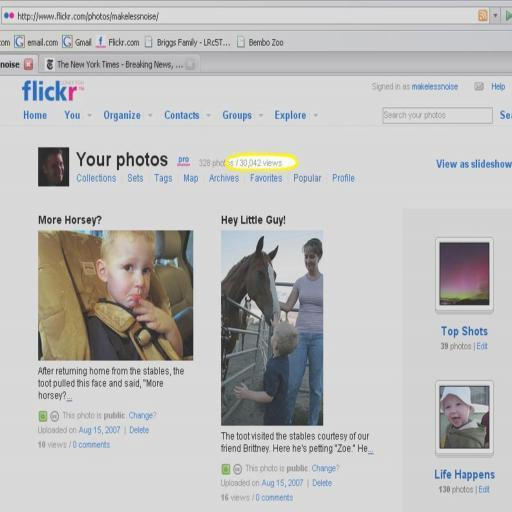horse: (220, 235, 280, 415)
